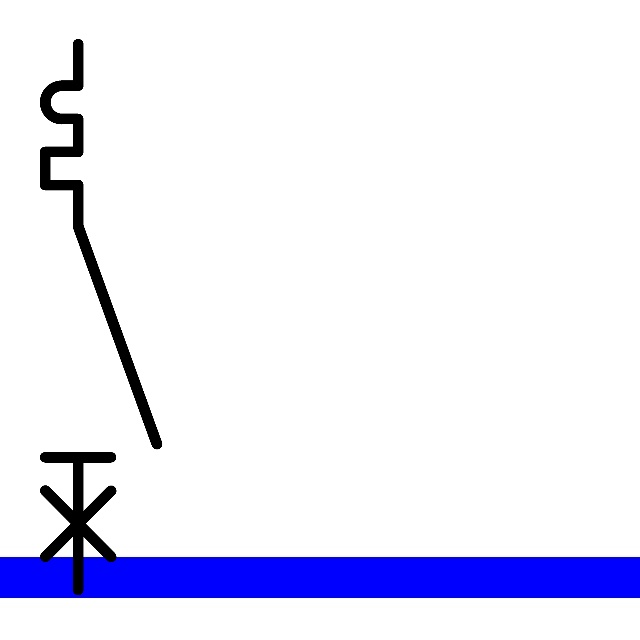interruptor_termomagnetico: (31, 30, 171, 604)
